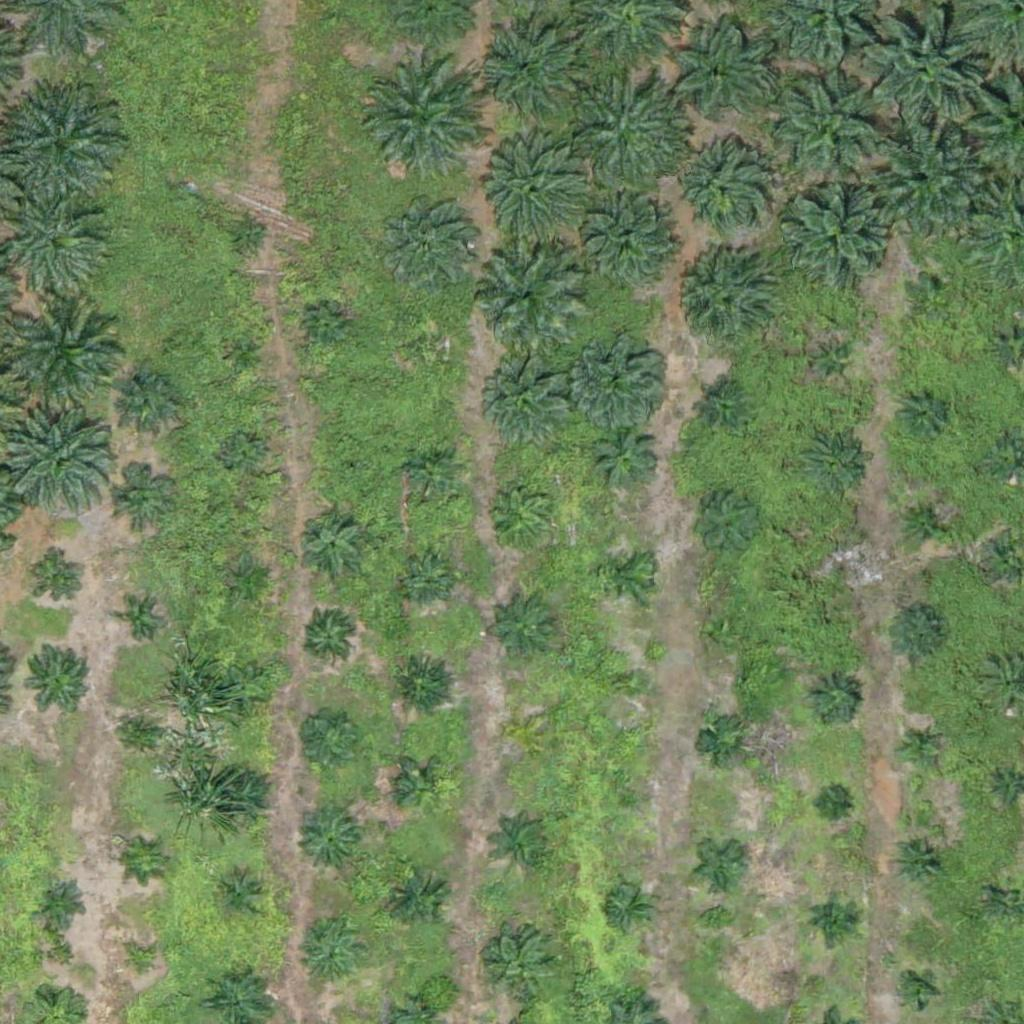Kelapa_Sawit: (7, 304, 132, 430), (356, 55, 481, 181), (766, 69, 891, 195), (862, 13, 987, 139), (862, 128, 987, 254), (568, 70, 693, 195), (467, 238, 580, 351), (783, 184, 896, 297), (474, 134, 586, 247), (6, 411, 118, 524), (7, 199, 107, 300), (377, 194, 477, 295), (480, 22, 580, 123), (578, 194, 678, 295), (668, 22, 768, 123), (670, 139, 770, 240), (668, 252, 768, 353), (573, 329, 673, 430), (486, 362, 573, 450), (289, 704, 364, 780), (21, 640, 96, 715), (687, 485, 762, 560), (298, 925, 361, 988), (212, 768, 275, 831), (108, 467, 171, 530), (118, 369, 181, 432), (492, 597, 555, 660), (391, 652, 454, 715), (401, 442, 464, 505), (885, 602, 948, 665), (297, 809, 359, 872), (387, 869, 449, 932), (489, 936, 552, 998), (495, 814, 557, 877), (298, 511, 360, 574), (803, 433, 865, 496), (594, 424, 656, 487), (492, 487, 554, 550), (216, 872, 266, 923), (35, 557, 85, 608), (600, 547, 650, 598), (807, 672, 857, 723), (900, 494, 950, 545), (223, 666, 273, 717), (809, 894, 859, 944), (697, 839, 747, 889), (397, 761, 447, 811), (604, 882, 654, 932), (305, 613, 355, 663), (399, 554, 449, 604), (898, 385, 948, 435), (699, 719, 749, 769), (803, 337, 853, 387), (906, 268, 956, 318), (895, 722, 945, 772), (894, 836, 944, 886), (36, 877, 86, 927), (130, 842, 168, 880), (707, 615, 745, 653), (898, 971, 936, 1009), (223, 433, 261, 471), (227, 335, 265, 373), (228, 216, 266, 254), (230, 559, 268, 597), (123, 943, 161, 981), (705, 391, 743, 428), (413, 329, 451, 366), (309, 309, 346, 347), (121, 604, 158, 641), (125, 714, 162, 751), (830, 548, 855, 573), (996, 777, 1021, 802), (819, 791, 844, 816), (618, 784, 643, 809), (618, 668, 643, 693), (513, 722, 538, 747), (340, 459, 365, 484)
